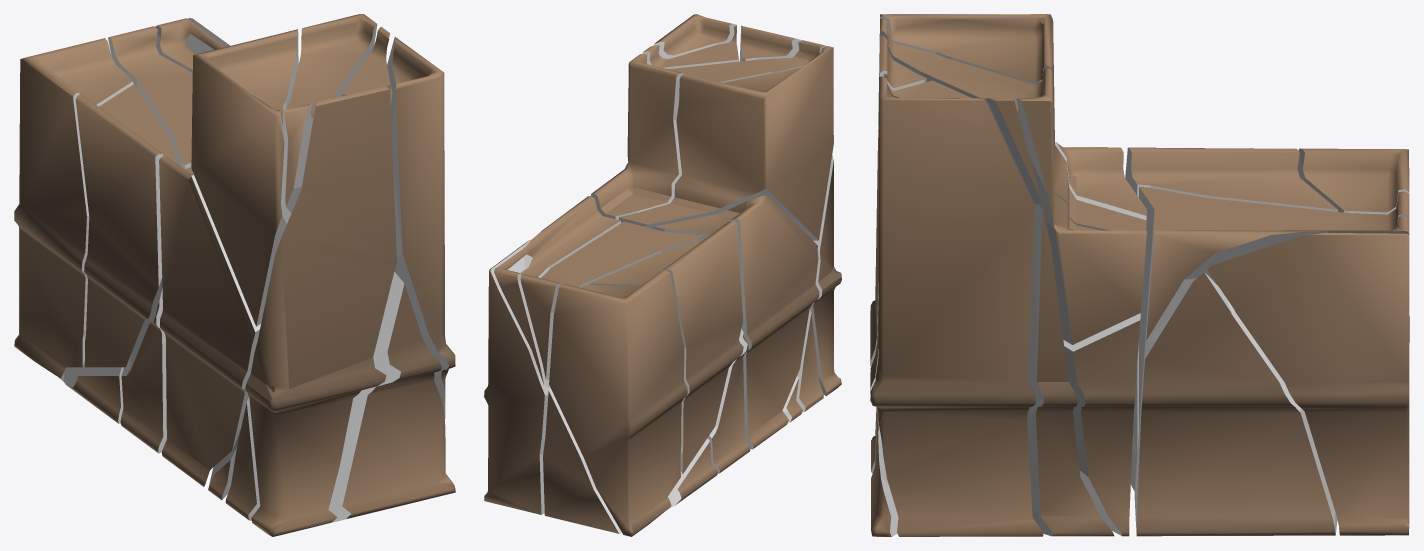
The model's file is Desert Houses(2).glb.
3 views of the same model, side by side, from view 1: azimuth 30°, elevation 25°; view 2: azimuth 150°, elevation 25°; view 3: azimuth 270°, elevation 25° (orthographic). The views are drawn at different scales.
Parts seen in each view (by area): view 1: Root, Root.001, Root.006, Root.002, Root.009, Root.008, Root.012, Root.010, Root.015, Root.005, Root.013, Root.007 (+3 smaller); view 2: Root.001, Root.002, Root.006, Root.009, Root.003, Root.010, Root.015, Root.013, Root.007, Root, Root.005, Root.012 (+3 smaller); view 3: Root.012, Root.003, Root.011, Root.010, Root.004, Root.014, Root.002, Root.009, Root.015, Root.007, Root.001, Root.006 (+3 smaller).
Part boxes in pixels (box(x1,y1,x2,y2)): Root: box(245, 86, 397, 536); Root.001: box(14, 38, 133, 378); Root.006: box(159, 156, 260, 486); Root.002: box(191, 29, 298, 326); Root.009: box(75, 84, 180, 367); Root.008: box(225, 272, 455, 522); Root.012: box(387, 37, 455, 420); Root.010: box(283, 14, 377, 213); Root.015: box(108, 26, 192, 169); Root.005: box(120, 277, 166, 453); Root.013: box(59, 361, 123, 423); Root.007: box(155, 18, 225, 72); Root.001: box(549, 271, 687, 536); Root.002: box(618, 46, 833, 240); Root.006: box(651, 195, 819, 449); Root.009: box(589, 221, 743, 474); Root.003: box(484, 239, 549, 514); Root.010: box(591, 40, 826, 219); Root.015: box(520, 221, 704, 379); Root.013: box(543, 388, 717, 533); Root.007: box(494, 196, 620, 388); Root: box(739, 25, 841, 395); Root.005: box(707, 329, 750, 473); Root.012: box(653, 14, 735, 58); Root.012: box(870, 76, 1043, 536); Root.003: box(1207, 233, 1409, 535); Root.011: box(1135, 272, 1337, 536); Root.010: box(878, 18, 1146, 344); Root.004: box(883, 73, 1114, 536); Root.014: box(1063, 313, 1140, 536); Root.002: box(878, 14, 1146, 230); Root.009: box(1125, 147, 1337, 211); Root.015: box(1137, 186, 1409, 457); Root.007: box(1134, 216, 1409, 511); Root.001: box(1297, 148, 1409, 342); Root.006: box(1055, 142, 1146, 220).
Size of the model in its own units: 4.46 by 9.64 by 10.78.
